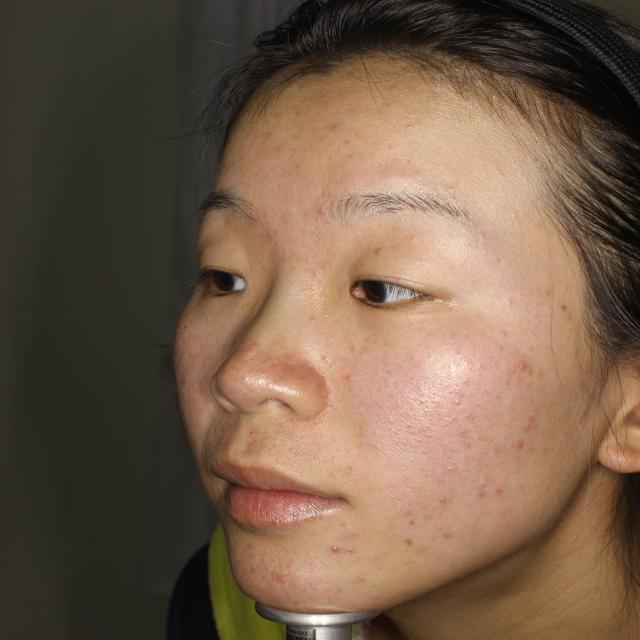acne: (467, 479, 519, 502), (399, 502, 439, 525), (319, 537, 360, 559), (505, 432, 544, 451), (514, 343, 533, 373), (440, 527, 459, 549)
